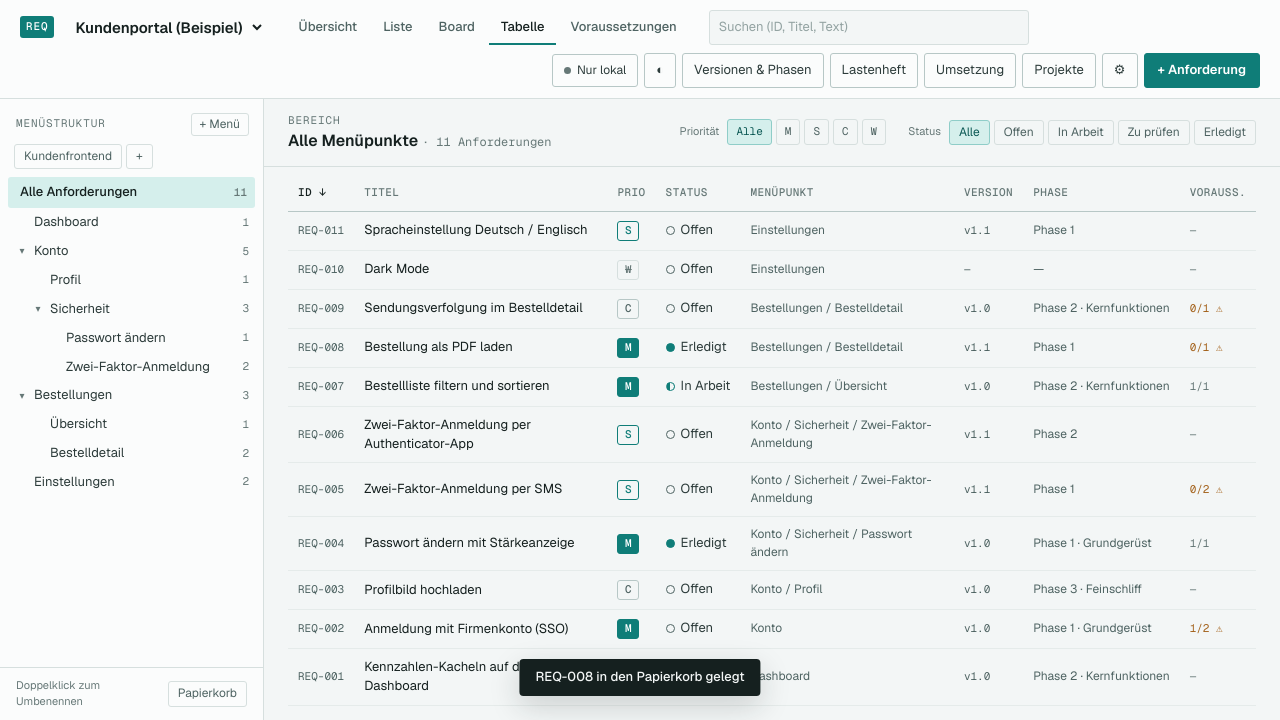
Test: Oberfläche › pflegt Versionen, Phasen und Menüpunkte
Click the button "Versionen & Phasen" at (753, 70), box x1=682 y1=53 x2=824 y2=88
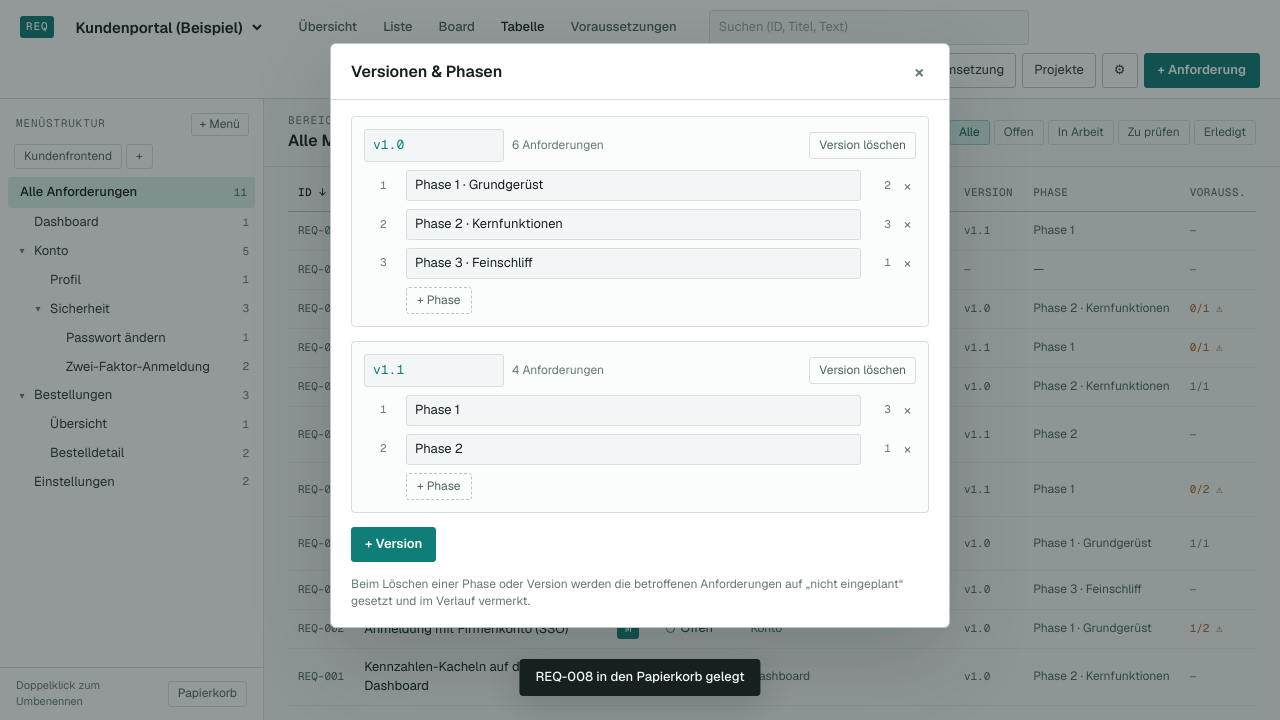
Click the button "+ Version" at (394, 544), box x1=351 y1=527 x2=436 y2=562
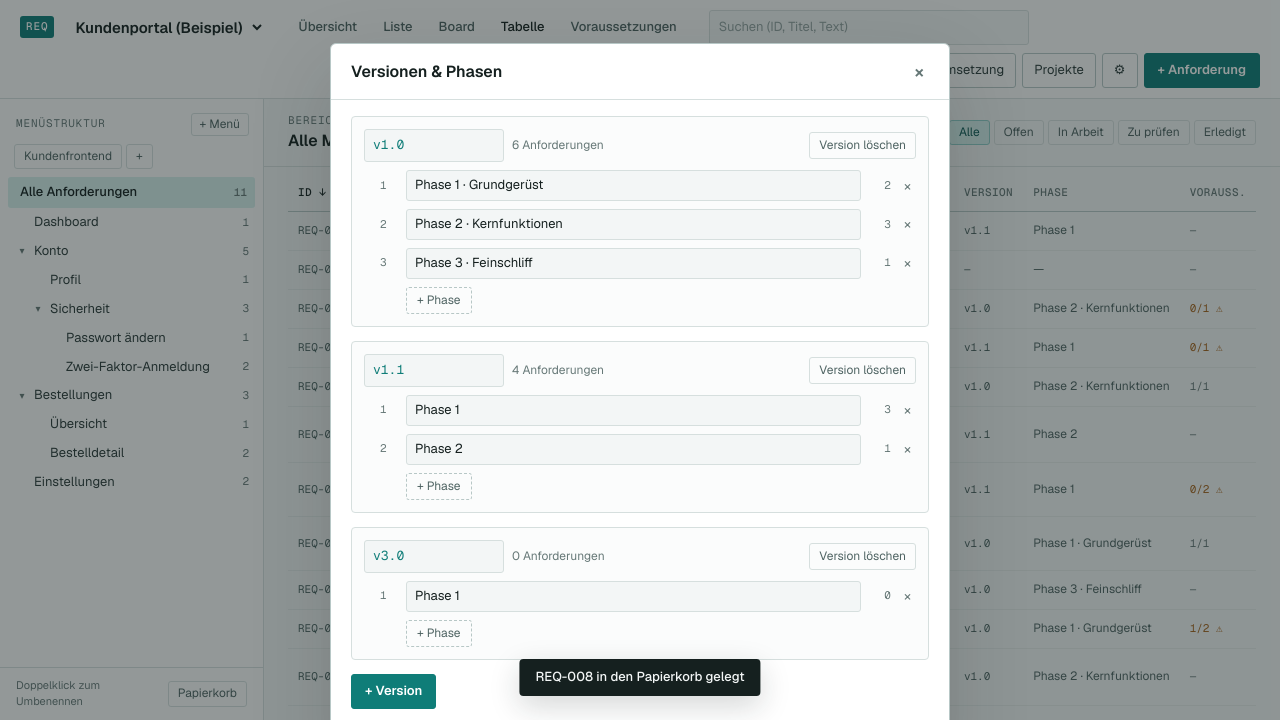
Click the 2nd button with class "icon-btn" at (908, 186), box x1=899 y1=177 x2=916 y2=195
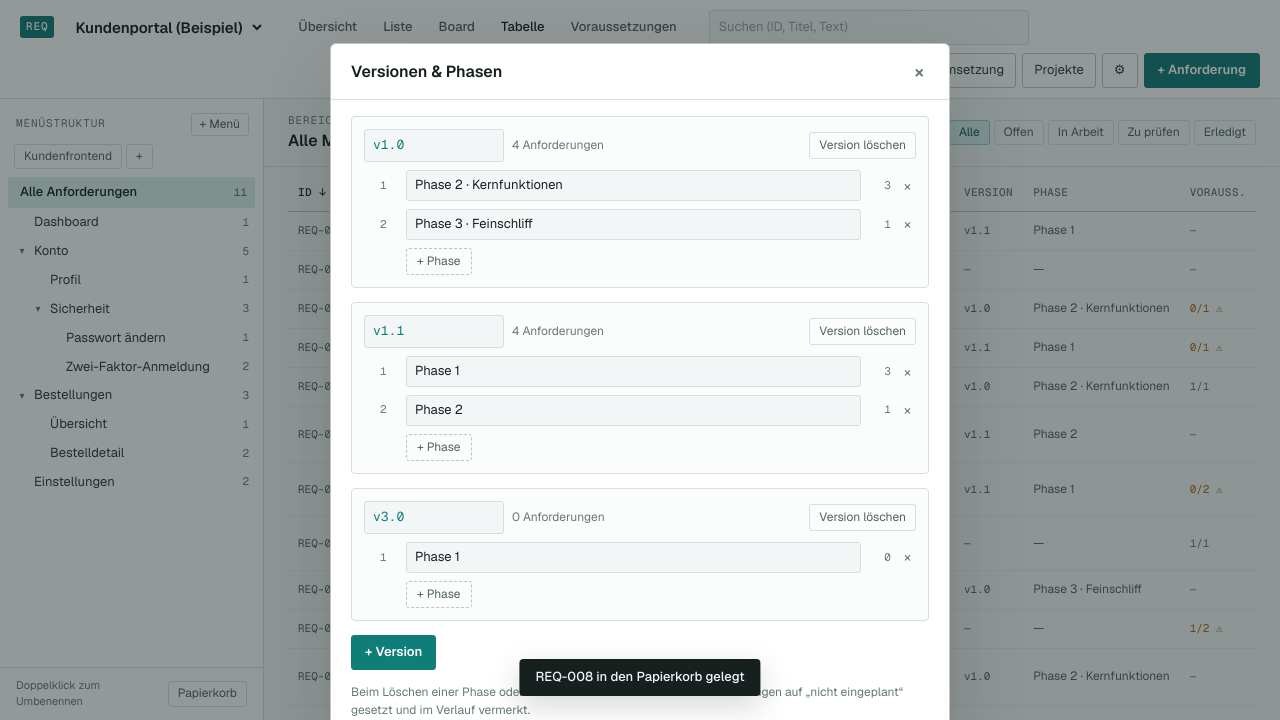
Click the 1st button "×" at (919, 72), box x1=910 y1=61 x2=929 y2=83
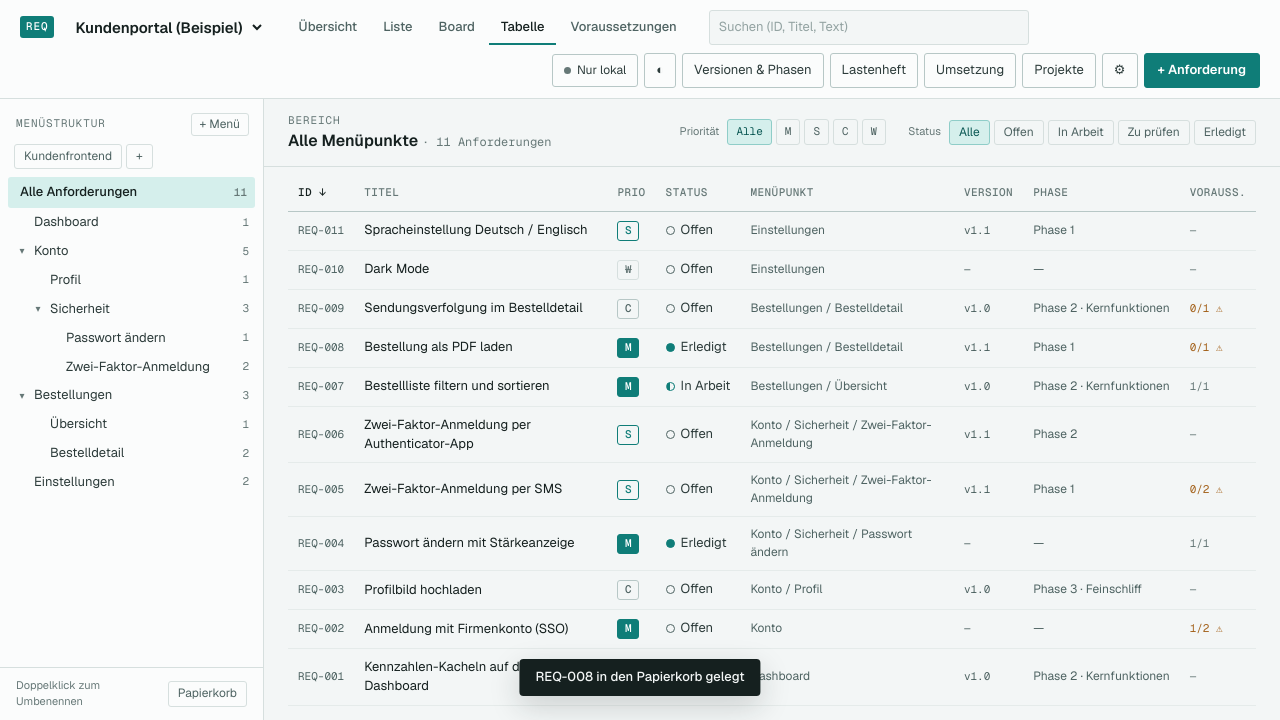
Click the button "+ Menü" at (220, 124), box x1=191 y1=113 x2=249 y2=136
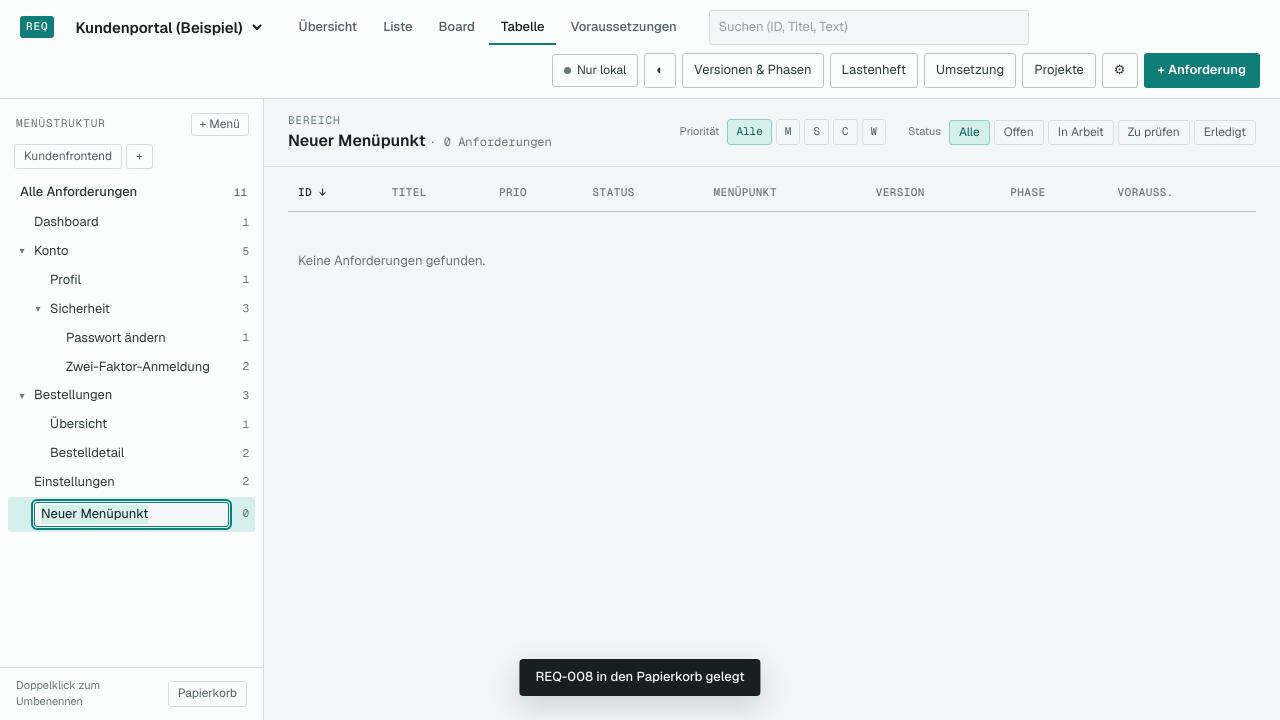
Replace the text in the 2nd field with "Hilfe" at (132, 514), box x1=34 y1=502 x2=229 y2=527
Press Enter in the 2nd field, box x1=34 y1=502 x2=229 y2=527
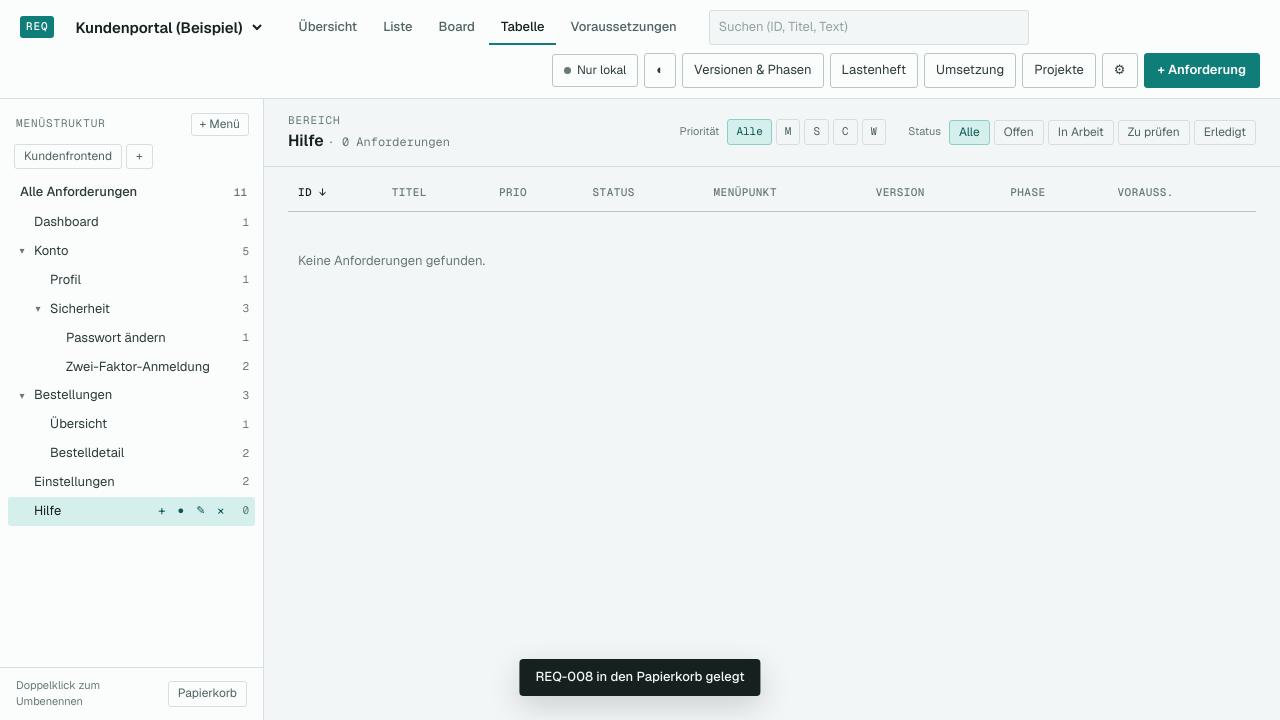
Check: the text "Hilfe" is shown, box x1=34 y1=502 x2=61 y2=519
